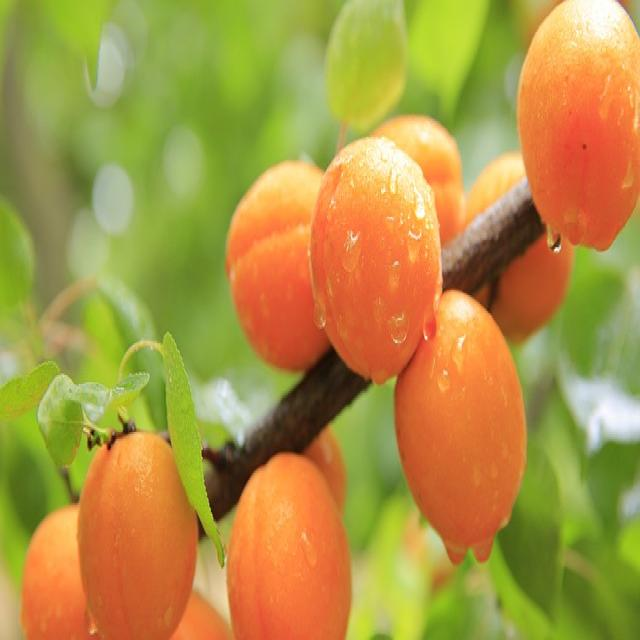kayisi: (199, 7, 635, 629)
kayisi-yapragi: (32, 330, 196, 454)
